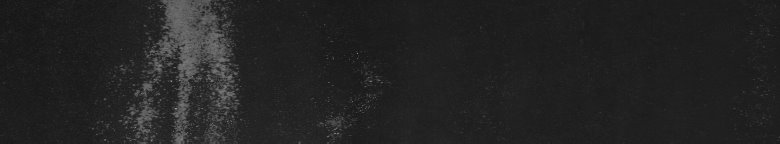kb: (140, 4, 228, 136)
